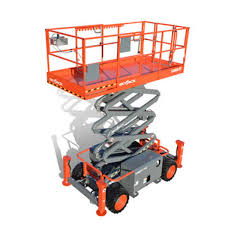Scissor Lift: (44, 20, 190, 216)
